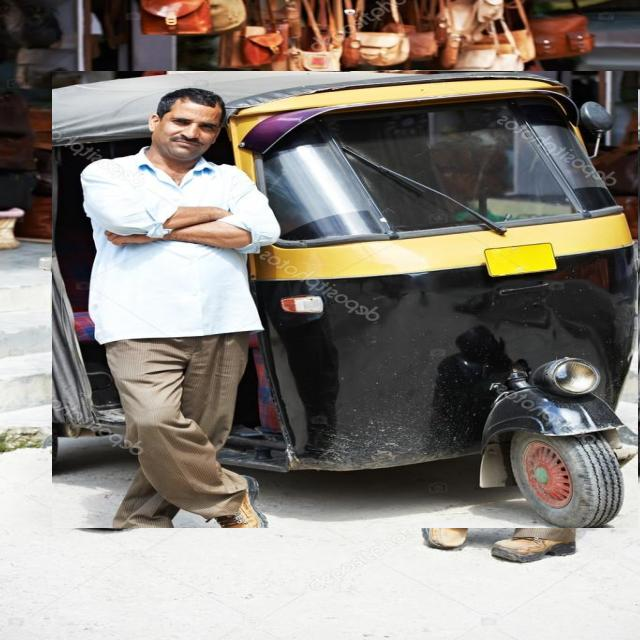autorickshaw: (52, 71, 638, 528)
